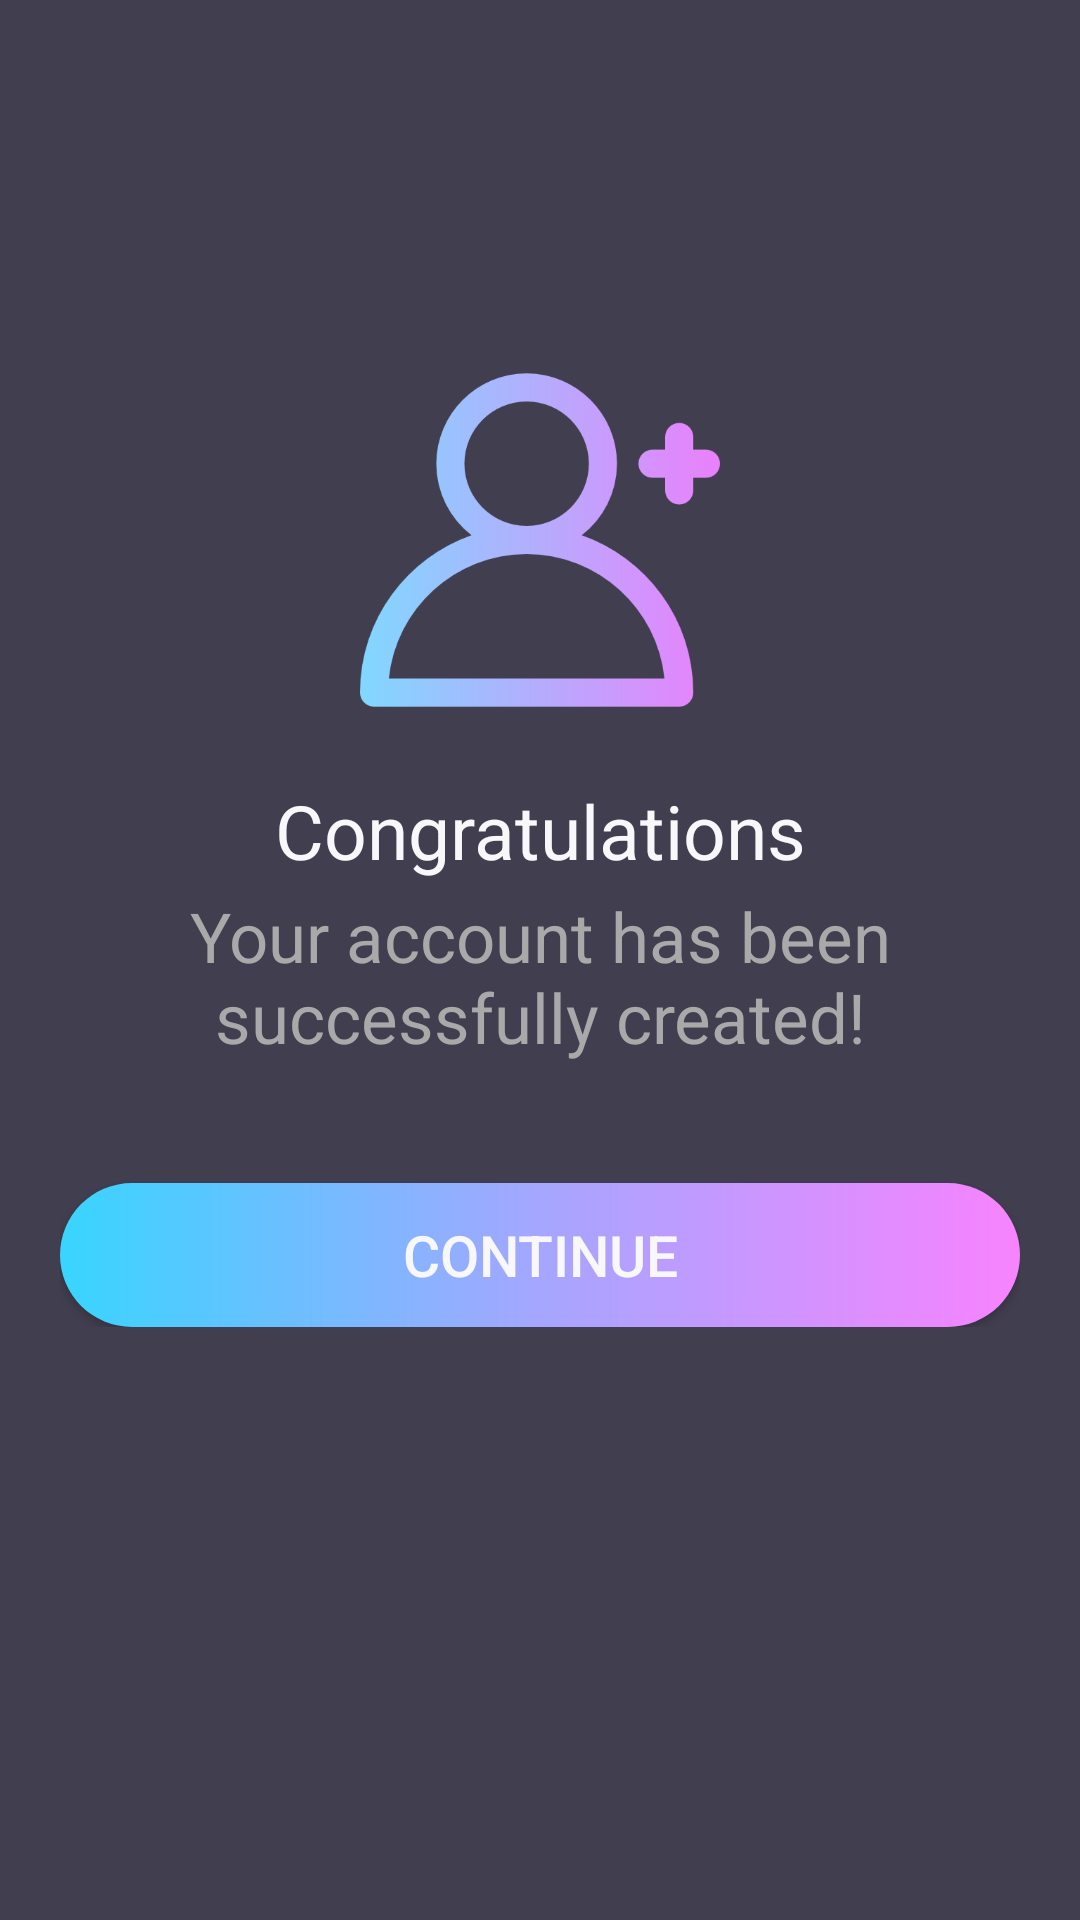

Named icons in this screenshot (1080px×1920px) and their centers, (x=x, y=y):
follower: (x=540, y=540)
